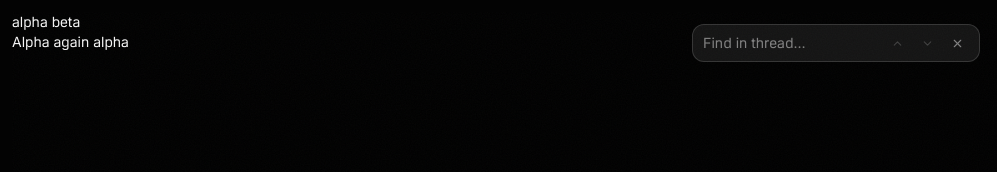
Scenario: ThreadSearchBar › still counts matches when the Custom Highlight API is unavailable (jsdom)
Type "alpha" into the field labelled "Find in thread" at (791, 43), box [703,33,879,53]
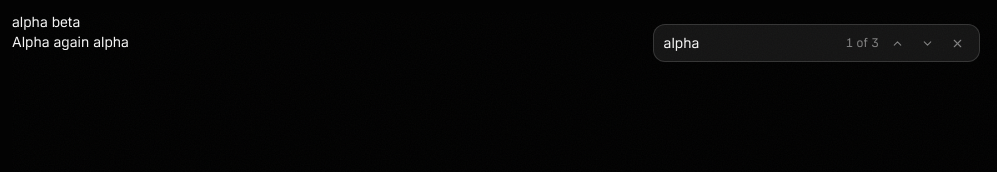
Expected: the text "1 of 3" is shown, [846,35,879,51]
